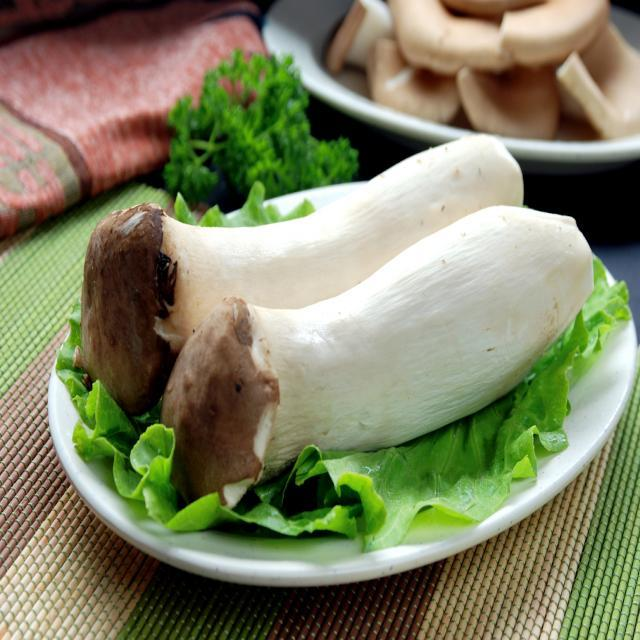Pleurotus eryngii: (84, 131, 597, 509)
